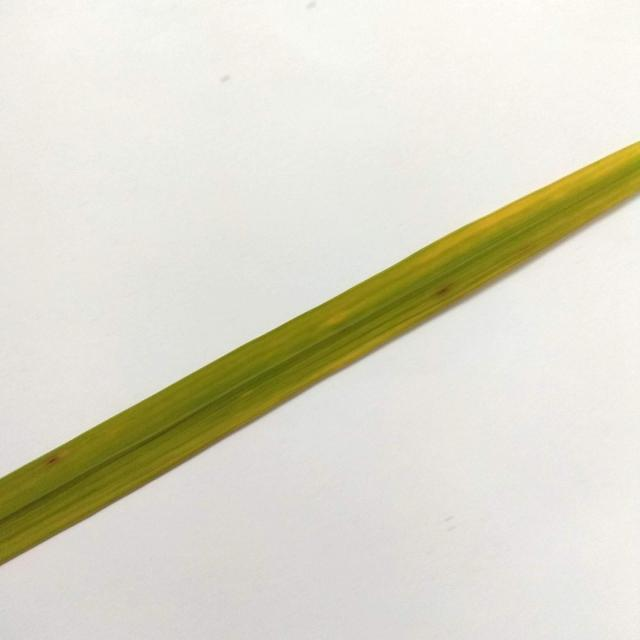Brown spot: (2, 126, 640, 571)
